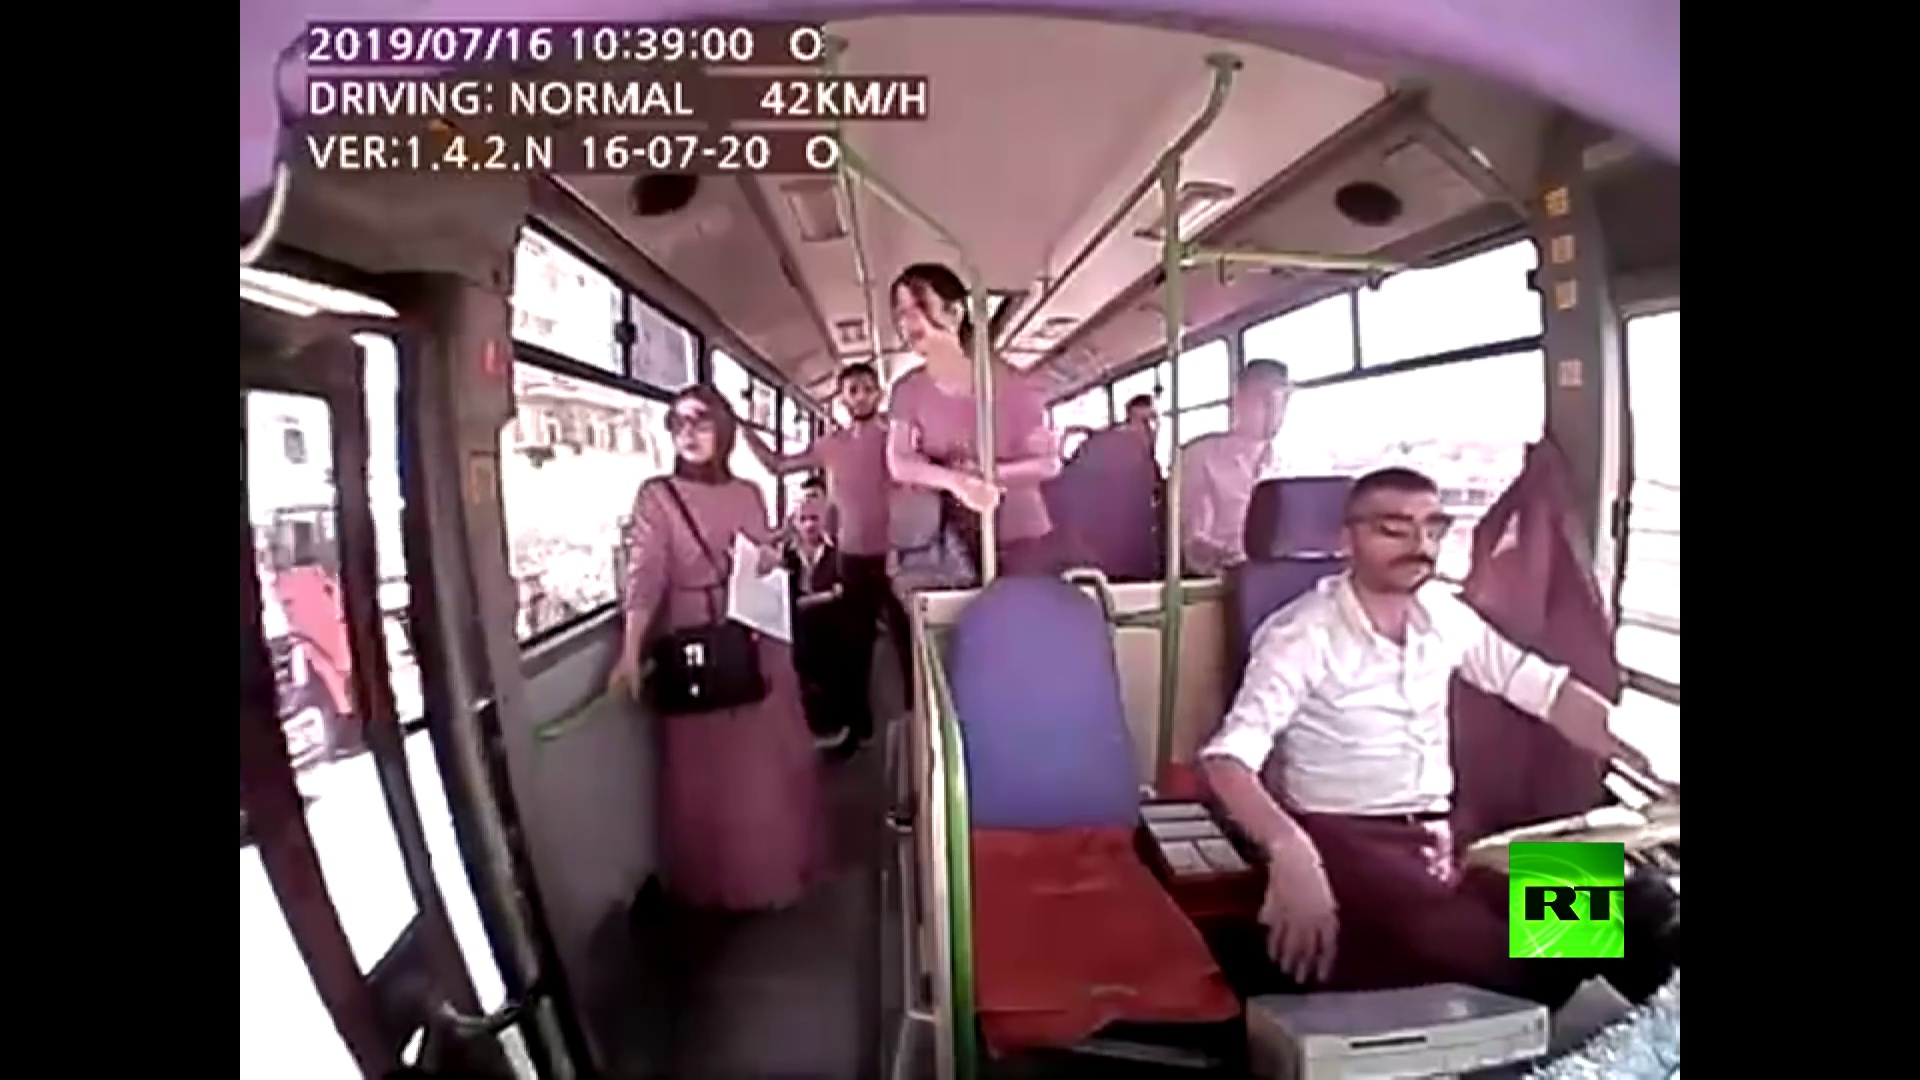face: (1368, 491, 1440, 586), (889, 275, 939, 368), (671, 399, 712, 462), (836, 373, 878, 416), (793, 506, 819, 539)
